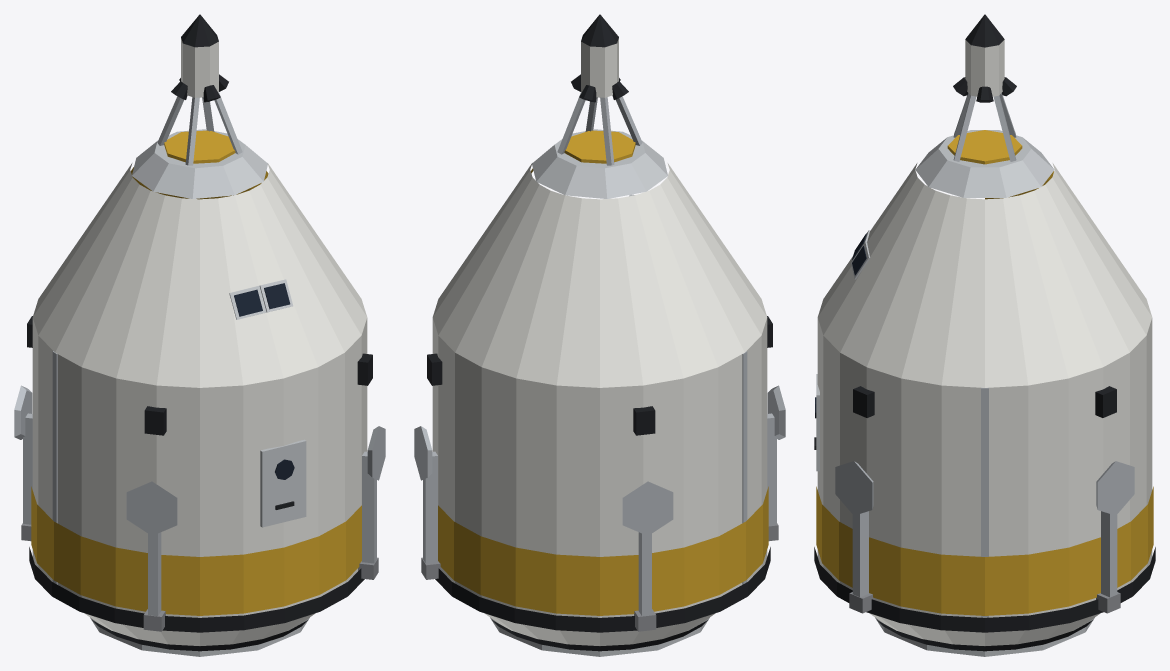
Rendered from crew-cabin.glb.
The picture shows the model from 3 angles, left to right: view 1: azimuth 30°, elevation 25°; view 2: azimuth 150°, elevation 25°; view 3: azimuth 270°, elevation 25°; orthographic projection.
Visible parts, largest first — view 1: Closed_Hull, Closed_FoilGold, CrewCabin_Hull, Closed_HullBlack, Stowed_Front_Steel, CrewCabin_Aluminum, Closed_Aluminum, CrewCabin_FoilGold, CrewCabin_Steel, Stowed_Front_Hull, CrewCabin_HullBlack, Stowed_Back_Steel (+4 smaller); view 2: CrewCabin_Hull, CrewCabin_FoilGold, Closed_Hull, CrewCabin_HullBlack, Stowed_Back_Steel, CrewCabin_Aluminum, CrewCabin_Steel, Stowed_Back_Hull, Stowed_Front_Steel, Closed_FoilGold, Stowed_Back_Aluminum, Stowed_Back_HullBlack (+1 smaller); view 3: CrewCabin_Hull, Closed_Hull, CrewCabin_FoilGold, Closed_FoilGold, CrewCabin_Aluminum, CrewCabin_HullBlack, Stowed_Back_Steel, Stowed_Front_Steel, Closed_HullBlack, CrewCabin_Steel, Stowed_Back_Hull, Stowed_Front_Hull (+4 smaller).
Part boxes in pixels (left/top/right/bottom): Closed_Hull: left=55, top=163, right=367, bottom=617; Closed_FoilGold: left=54, top=505, right=361, bottom=615; CrewCabin_Hull: left=32, top=38, right=218, bottom=581; Closed_HullBlack: left=52, top=353, right=372, bottom=632; Stowed_Front_Steel: left=126, top=426, right=385, bottom=616; CrewCabin_Aluminum: left=132, top=129, right=267, bottom=198; Closed_Aluminum: left=229, top=279, right=306, bottom=527; CrewCabin_FoilGold: left=31, top=130, right=268, bottom=579; CrewCabin_Steel: left=52, top=92, right=242, bottom=584; Stowed_Front_Hull: left=84, top=613, right=315, bottom=645; CrewCabin_HullBlack: left=27, top=14, right=228, bottom=595; Stowed_Back_Steel: left=14, top=385, right=32, bottom=524; CrewCabin_Hull: left=432, top=38, right=744, bottom=617; CrewCabin_FoilGold: left=438, top=130, right=745, bottom=615; Closed_Hull: left=660, top=163, right=767, bottom=581; CrewCabin_HullBlack: left=427, top=14, right=747, bottom=632; Stowed_Back_Steel: left=414, top=426, right=673, bottom=616; CrewCabin_Aluminum: left=532, top=129, right=667, bottom=198; CrewCabin_Steel: left=557, top=92, right=747, bottom=584; Stowed_Back_Hull: left=484, top=613, right=715, bottom=645; Stowed_Front_Steel: left=767, top=385, right=785, bottom=524; Closed_FoilGold: left=746, top=486, right=768, bottom=579; Stowed_Back_Aluminum: left=490, top=617, right=709, bottom=656; Stowed_Back_HullBlack: left=492, top=620, right=707, bottom=651; CrewCabin_Hull: left=965, top=40, right=1152, bottom=617; Closed_Hull: left=817, top=163, right=984, bottom=617; CrewCabin_FoilGold: left=947, top=130, right=1153, bottom=615; Closed_FoilGold: left=816, top=486, right=984, bottom=615; CrewCabin_Aluminum: left=915, top=130, right=1054, bottom=197; CrewCabin_HullBlack: left=953, top=14, right=1155, bottom=632; Stowed_Back_Steel: left=1096, top=461, right=1134, bottom=597; Stowed_Front_Steel: left=835, top=461, right=873, bottom=597; Closed_HullBlack: left=814, top=386, right=984, bottom=632; CrewCabin_Steel: left=953, top=93, right=1016, bottom=617; Stowed_Back_Hull: left=985, top=613, right=1100, bottom=645; Stowed_Front_Hull: left=869, top=613, right=984, bottom=645.
Size of the model in its own units: 1.47 by 2.82 by 1.47.
